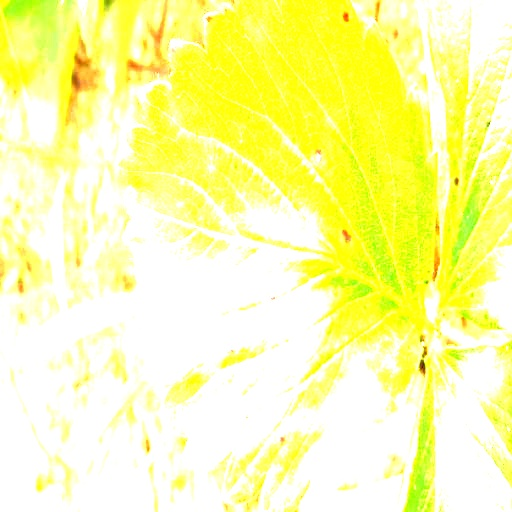Leaf Spot: (118, 0, 438, 511)
